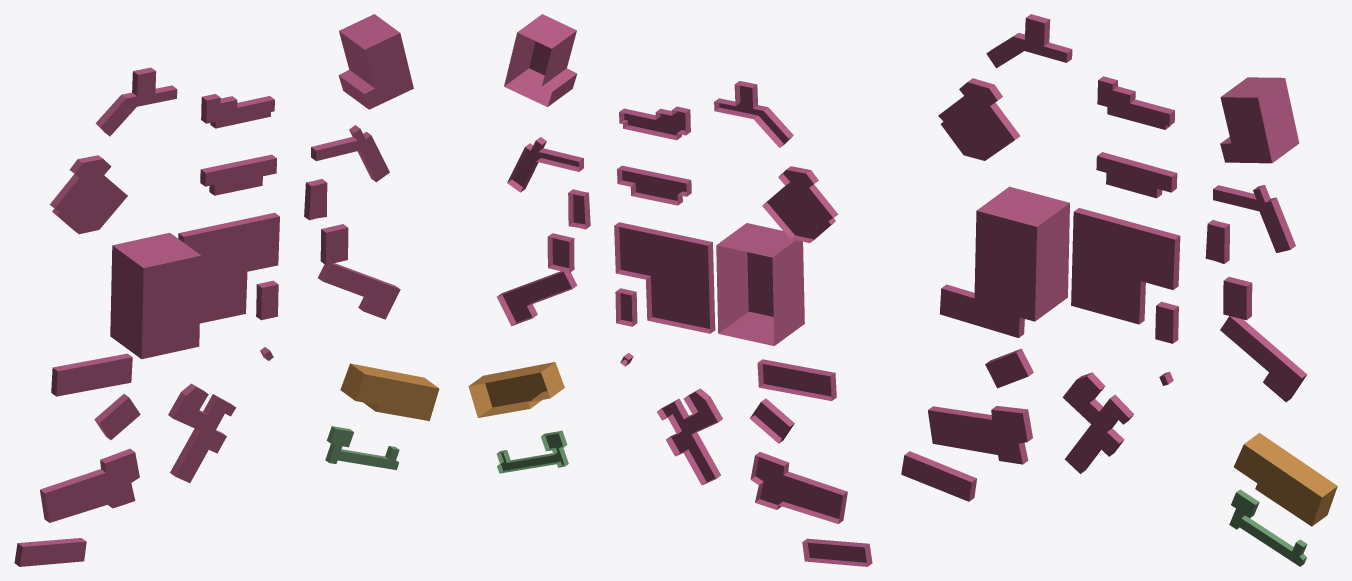
The model's file is buildings_k01.obj.
3 views of the same model, side by side, from view 1: azimuth 30°, elevation 25°; view 2: azimuth 150°, elevation 25°; view 3: azimuth 330°, elevation 25° (orthographic). The views are drawn at different scales.
Visible parts, largest first — view 1: roof1, zone1, roof2, zone2, roof3; view 2: zone1, roof1, zone2, roof2, zone3, roof3; view 3: roof1, zone1, roof2, zone2, roof3, zone3.
Part boxes in pixels (x1,y1,x2,y2): roof1: [19, 33, 413, 566]; zone1: [14, 14, 399, 566]; roof2: [355, 374, 439, 420]; zone2: [340, 363, 438, 411]; roof3: [329, 429, 399, 469]; zone1: [497, 14, 872, 566]; roof1: [502, 41, 866, 562]; zone2: [468, 362, 564, 417]; roof2: [485, 372, 547, 407]; zone3: [496, 430, 568, 473]; roof3: [501, 433, 564, 470]; roof1: [901, 18, 1301, 501]; zone1: [905, 14, 1307, 501]; roof2: [1234, 444, 1321, 526]; zone2: [1244, 433, 1337, 526]; roof3: [1229, 492, 1303, 566]; zone3: [1236, 489, 1307, 566].
Bounding box in the file's own units: 415 × 457 × 54.9.
